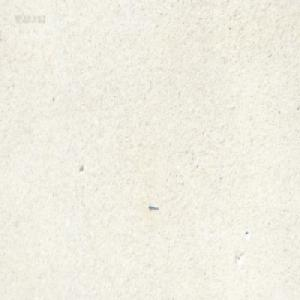Nail: (148, 203, 158, 211)
